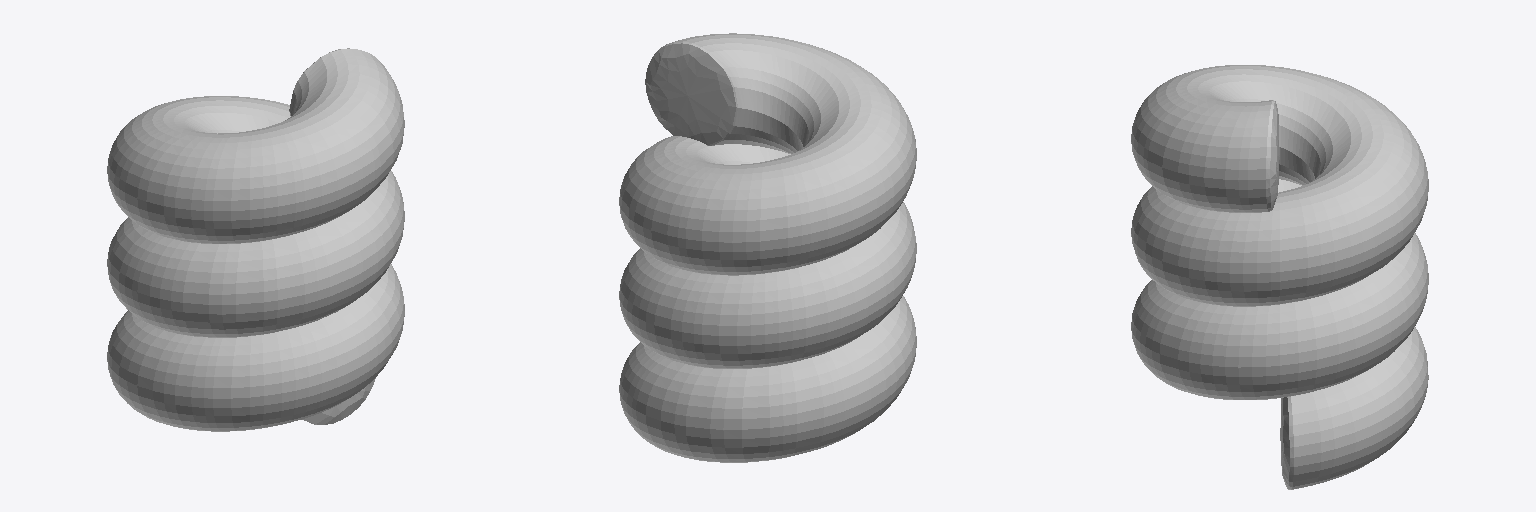
File: helix_75.0.obj
3 renders of one model, left to right at view 1: azimuth 30°, elevation 25°; view 2: azimuth 150°, elevation 25°; view 3: azimuth 270°, elevation 25°, orthographic.
Parts seen in each view (by area): view 1: helix:pHelix1; view 2: helix:pHelix1; view 3: helix:pHelix1.
Part boxes in pixels (bbox=[...]): helix:pHelix1: bbox=[107, 48, 404, 431]; helix:pHelix1: bbox=[619, 33, 916, 462]; helix:pHelix1: bbox=[1131, 65, 1428, 489].
Size of the model in its own units: 1.92 by 2.71 by 1.92.